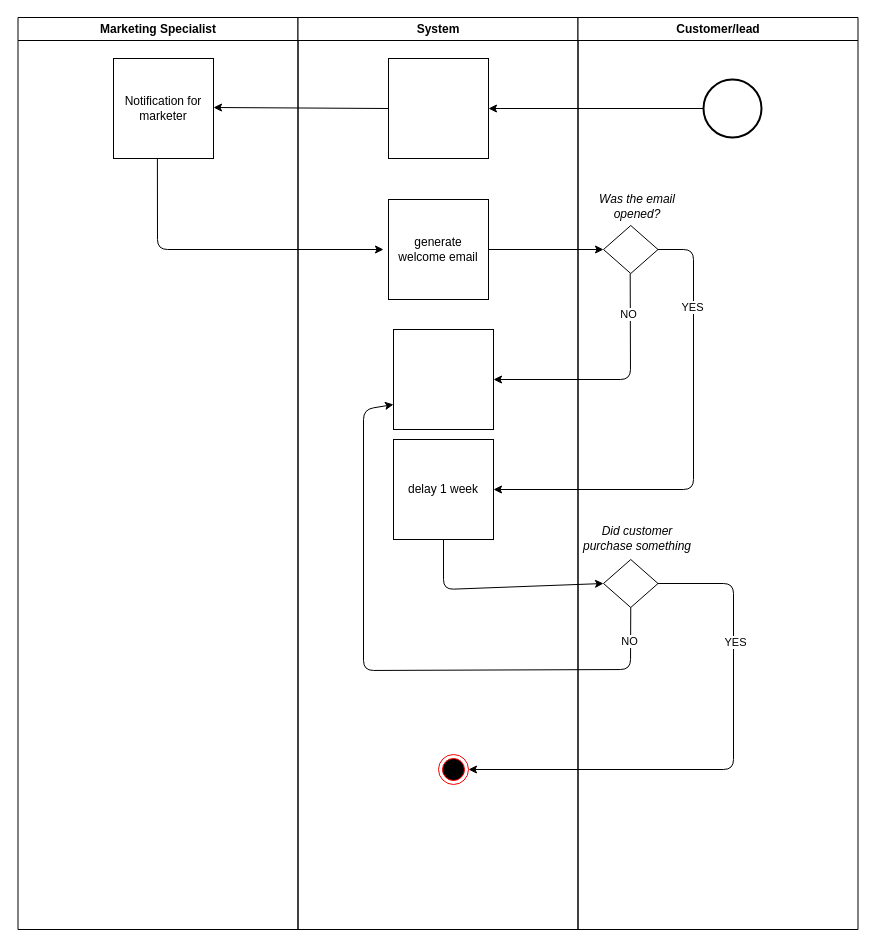
The diagram is 875 pixels wide and 947 high, and some of its shapes have lost their labels. Each missing label, with the centre of its shape:
Send follow up email: (x=443, y=379)
sends form to marketer: (x=438, y=108)
user filling out form: (x=732, y=108)
